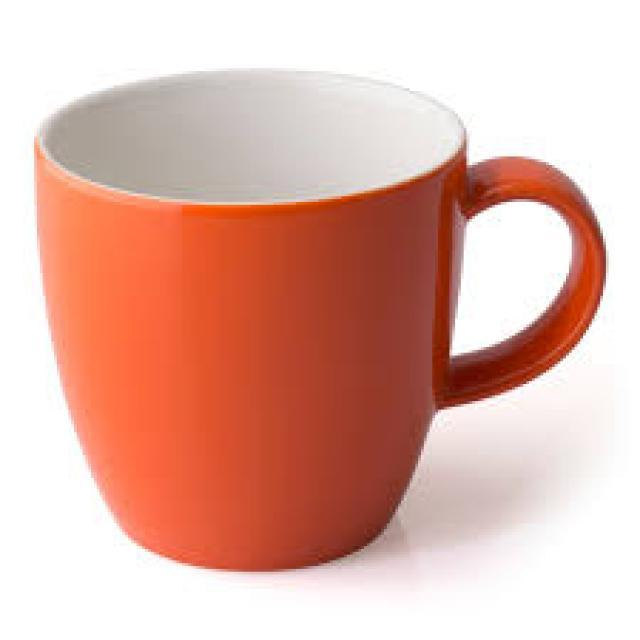taza: (32, 68, 607, 572)
